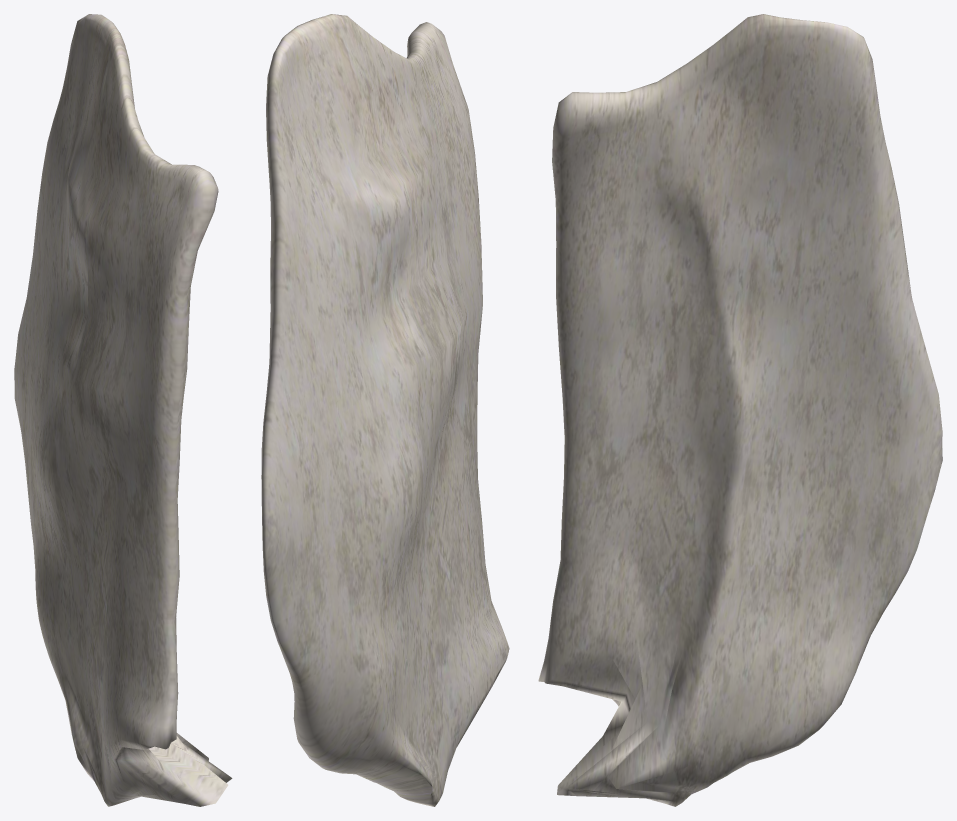
The model's file is lacrimal_bone__hueso_lacrimal.glb.
3 views of the same model, side by side, from view 1: azimuth 30°, elevation 25°; view 2: azimuth 150°, elevation 25°; view 3: azimuth 270°, elevation 25° (orthographic). The views are drawn at different scales.
Visible parts, largest first — view 1: Object_2; view 2: Object_2; view 3: Object_2.
Part boxes in pixels (x1,y1,x2,y2): Object_2: (14,14,232,806); Object_2: (261,14,509,806); Object_2: (538,14,942,806).
Size of the model in its own units: 4.87 by 34.13 by 15.48.
Materials: 1 (1 with a texture image).
